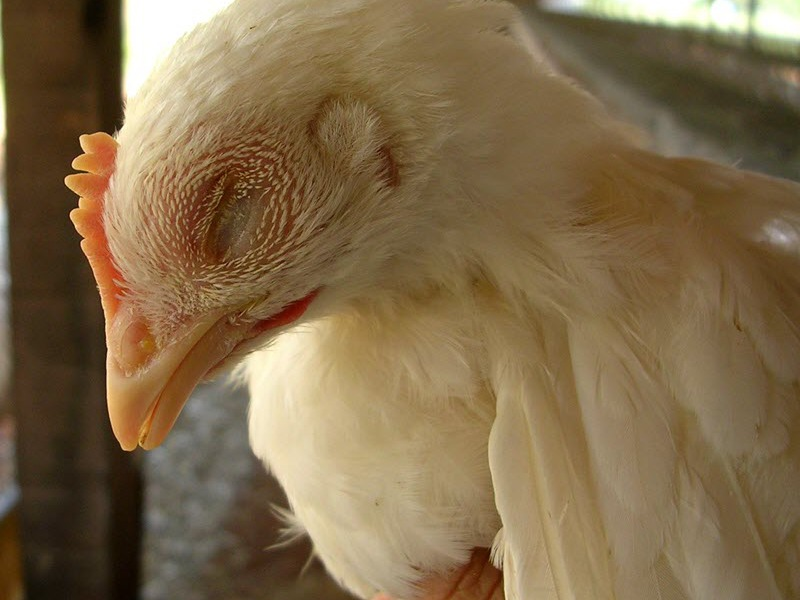Unhealthy: (50, 6, 698, 558)
